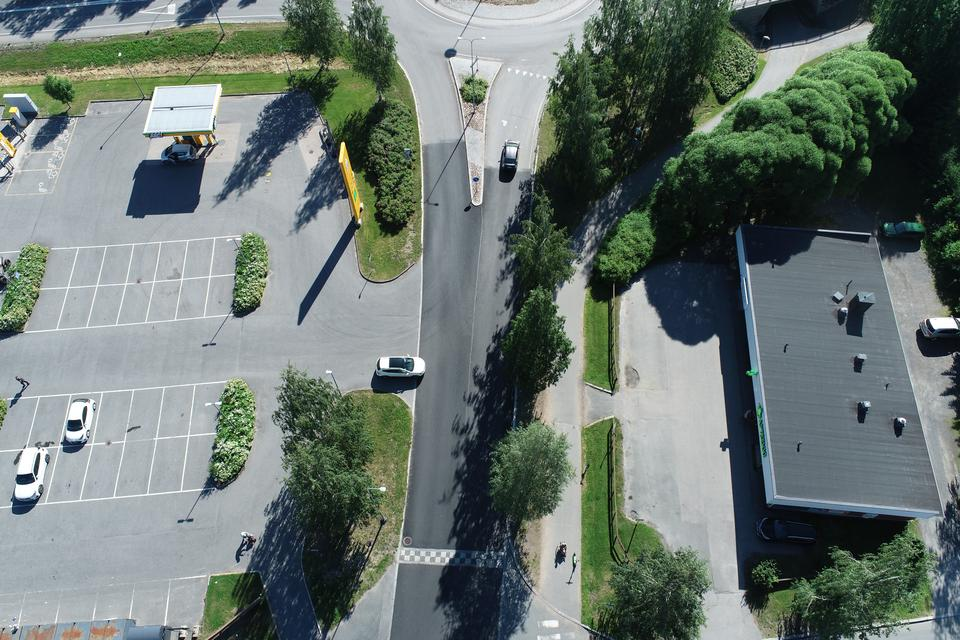intersection: (268, 230, 503, 455)
roundabout: (292, 0, 662, 170)
